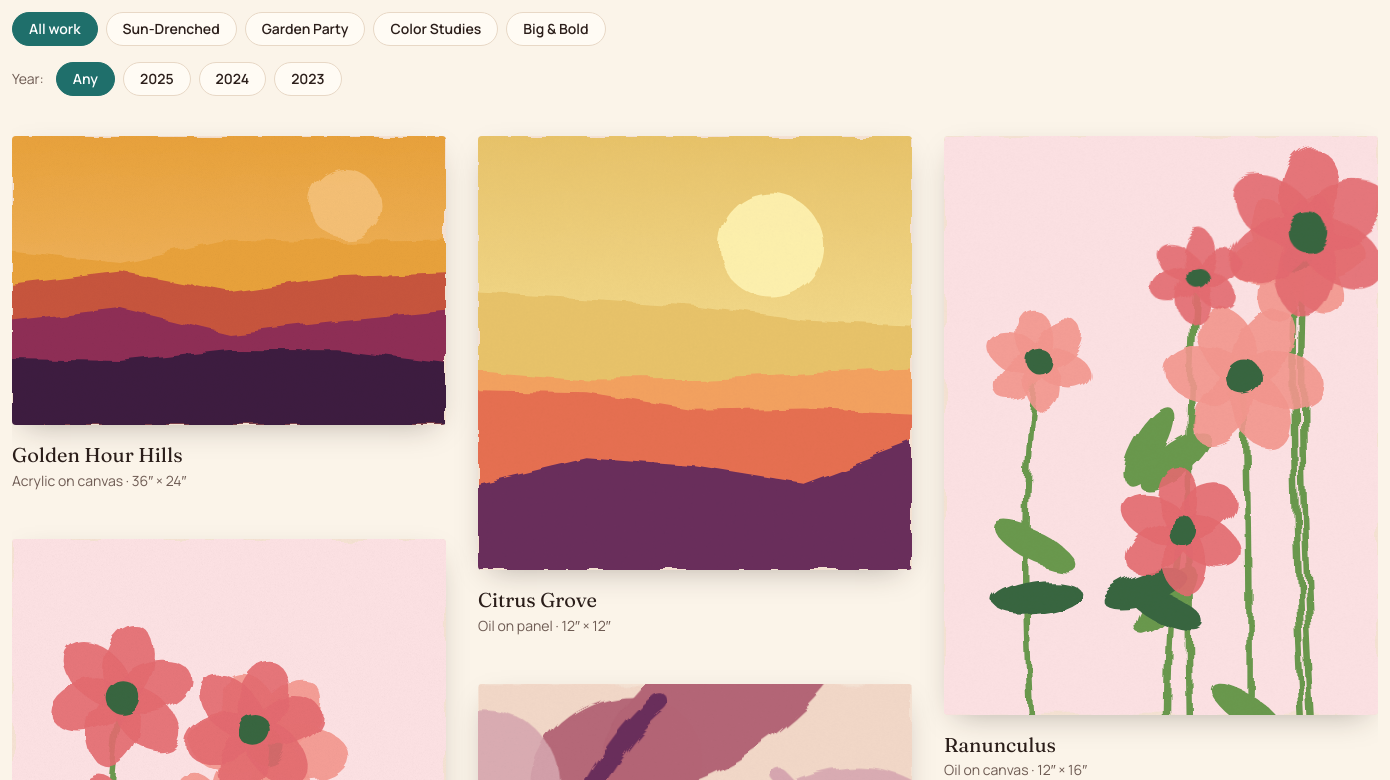
GalleryBrowser › filters by year and back to any year
The image size is (1390, 780).
Step 1. Click the button "2023" → (308, 79), box [274,62,342,96]
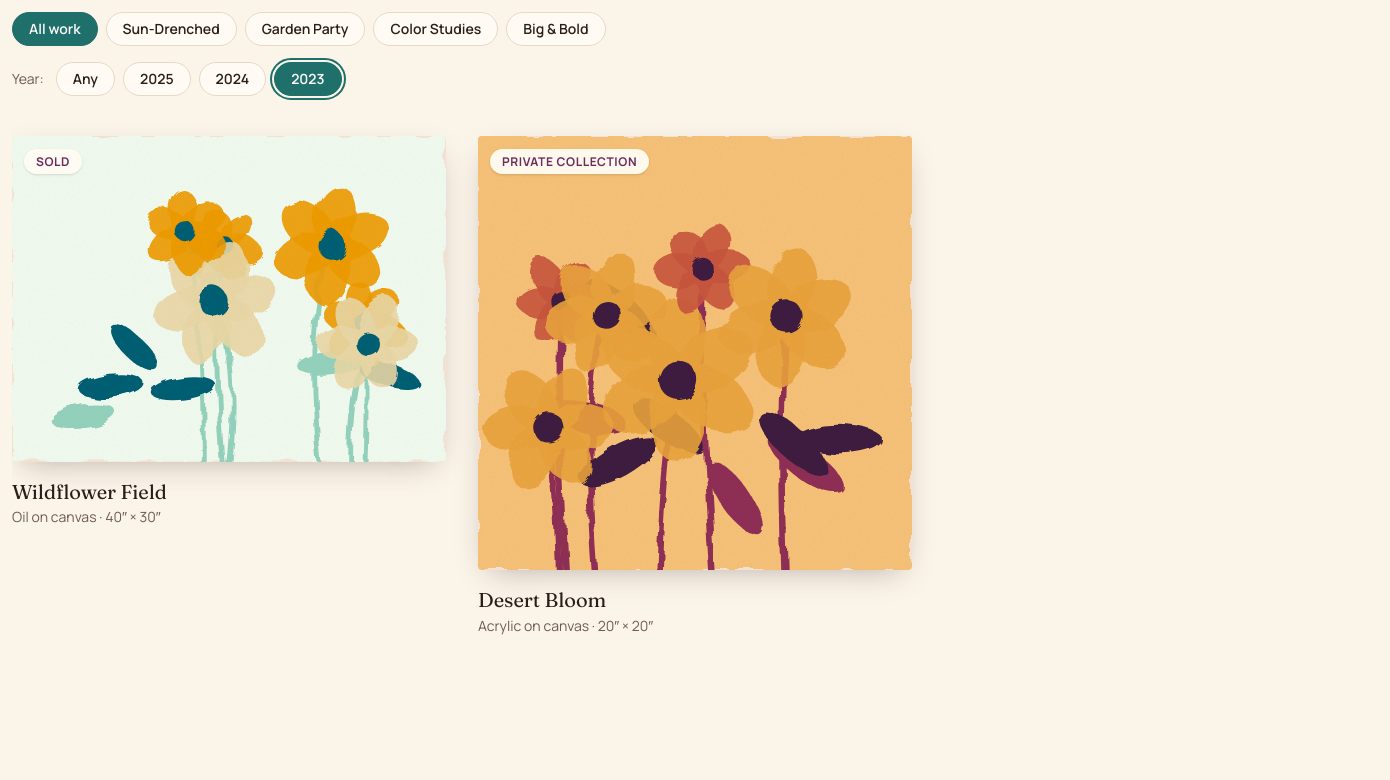
Expected: the button "2023" is pressed, [274,62,342,96]
Step 2. Click the button "Any" → (85, 79), box [56,62,115,96]
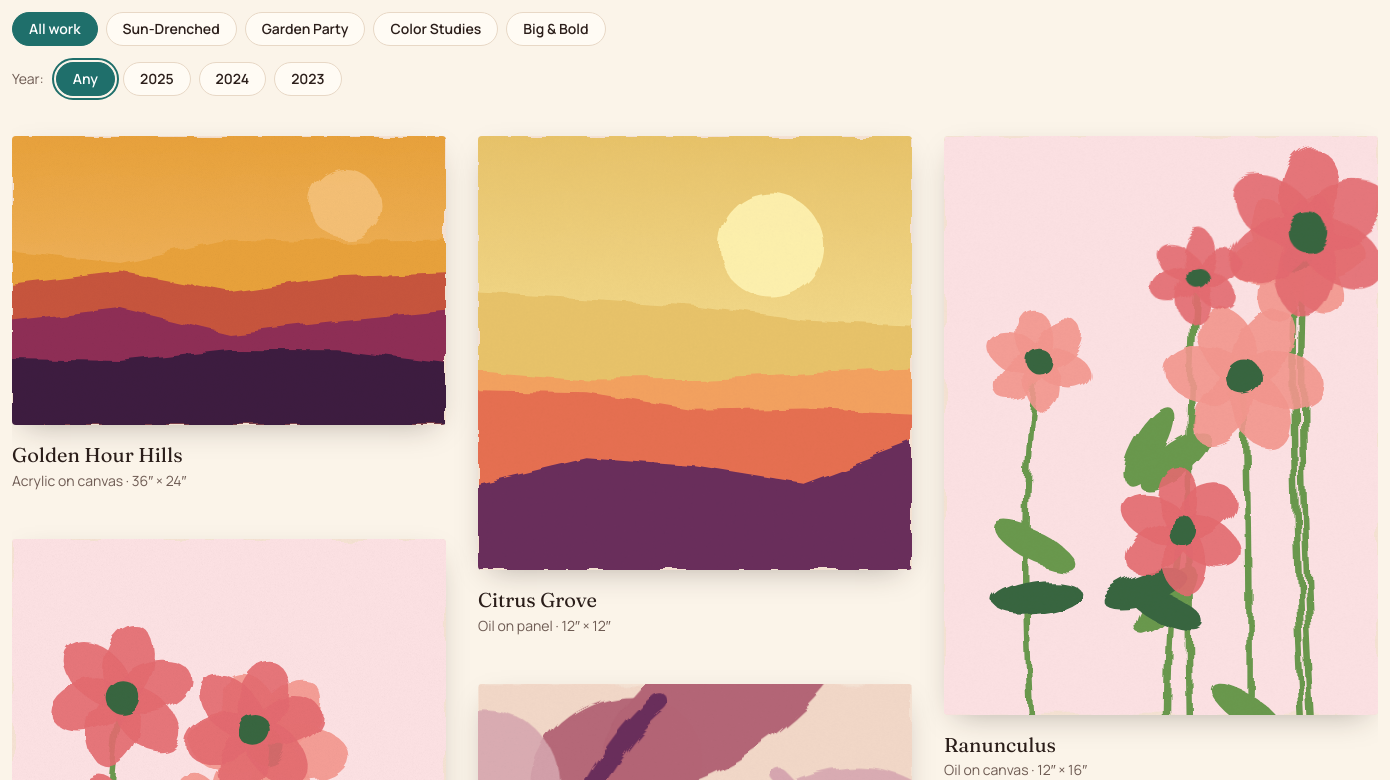
Expected: the number of headings is 12
